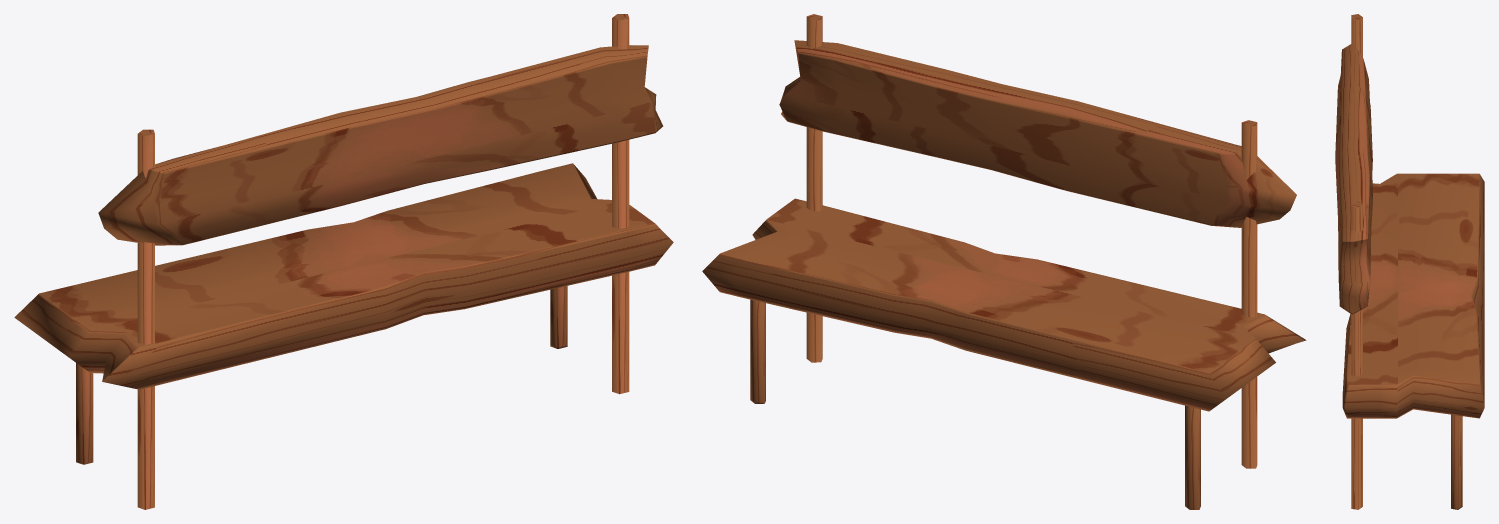
File: Ławeczka.fbx
The picture shows the model from 3 angles, left to right: view 1: azimuth 30°, elevation 25°; view 2: azimuth 150°, elevation 25°; view 3: azimuth 270°, elevation 25°; orthographic projection. The views are drawn at different scales.
Parts seen in each view (by area): view 1: Oparcie2, Trzymadełka; view 2: Oparcie2, Trzymadełka; view 3: Oparcie2, Trzymadełka.
Part boxes in pixels (x1,y1,x2,y2): Oparcie2: [14, 45, 673, 389]; Trzymadełka: [76, 14, 629, 509]; Oparcie2: [702, 40, 1306, 411]; Trzymadełka: [750, 14, 1257, 509]; Oparcie2: [1335, 44, 1484, 418]; Trzymadełka: [1351, 14, 1462, 509].
Bounding box in the file's own units: 416 × 260 × 116.
